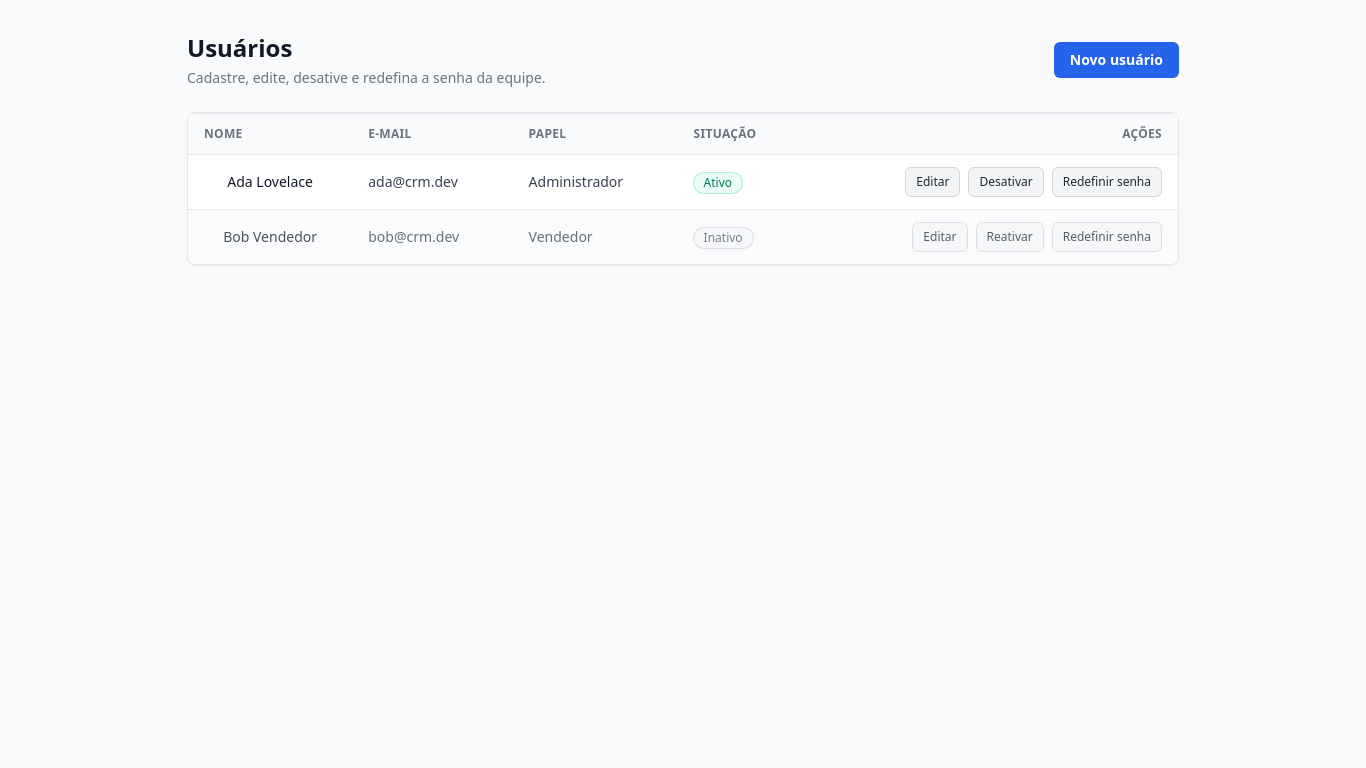
página de usuários › redefine a senha e mostra a nova senha provisória uma vez
Click the button "Redefinir senha" in the row of "Bob Vendedor" at [1107, 237], box top-left (1052, 222), bottom-right (1162, 252)
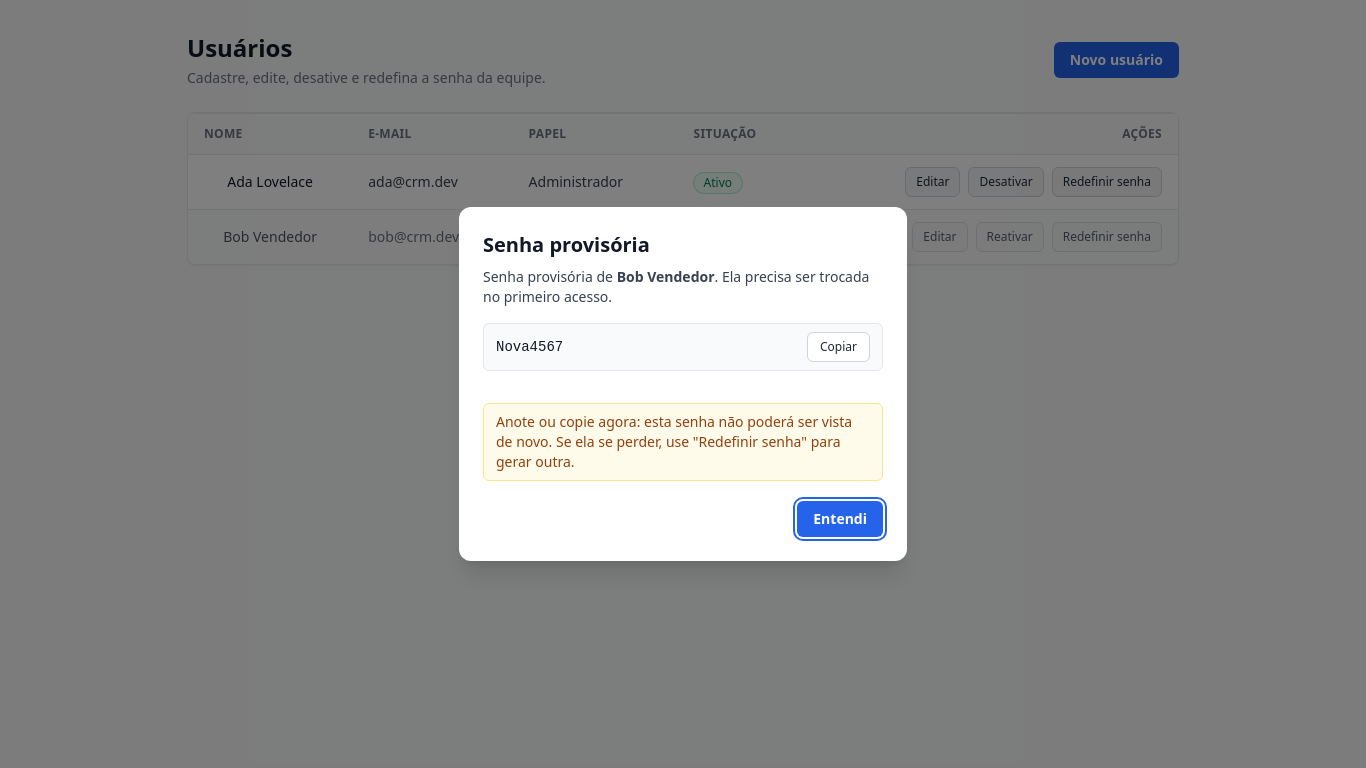
Check: the text "Nova4567" is shown, box top-left (496, 339), bottom-right (563, 355)
Click the button "Entendi" at [840, 519], box top-left (797, 501), bottom-right (883, 537)
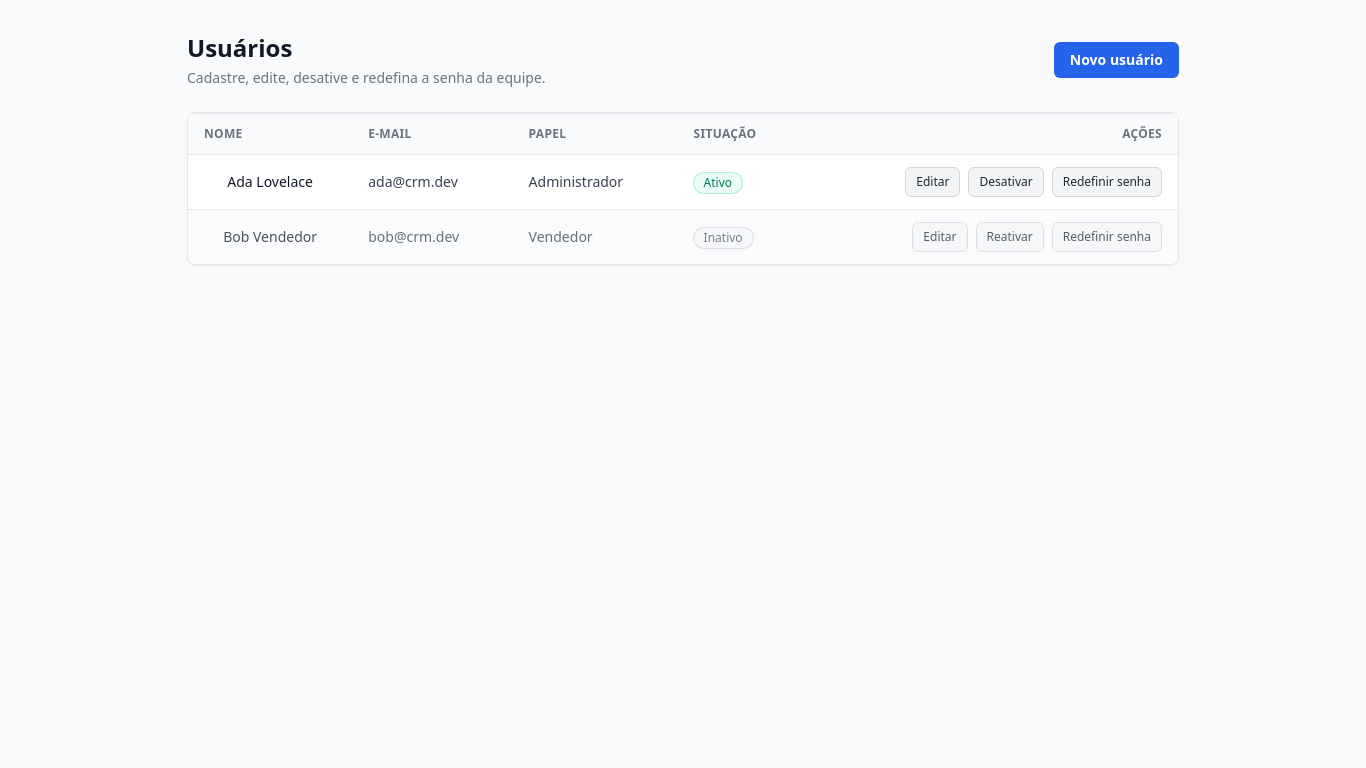
Check: the text "Nova4567" is gone
